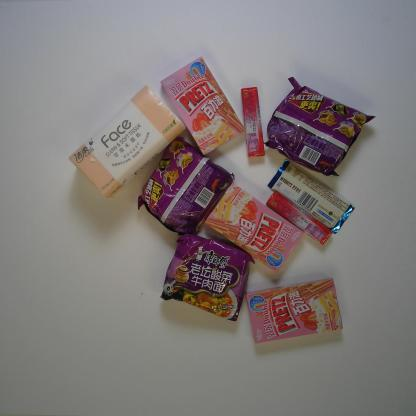Candy: (266, 190, 332, 246), (241, 86, 265, 158)
Chocolate: (267, 160, 355, 234)
Dessert: (204, 182, 305, 273), (160, 56, 245, 155), (246, 278, 343, 344)
Instant Noodles: (263, 77, 377, 177), (137, 135, 235, 236), (160, 233, 256, 322)
Tissue: (68, 85, 186, 199)
